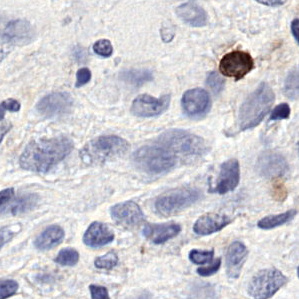Lymphocyte: (220, 50, 255, 79)
